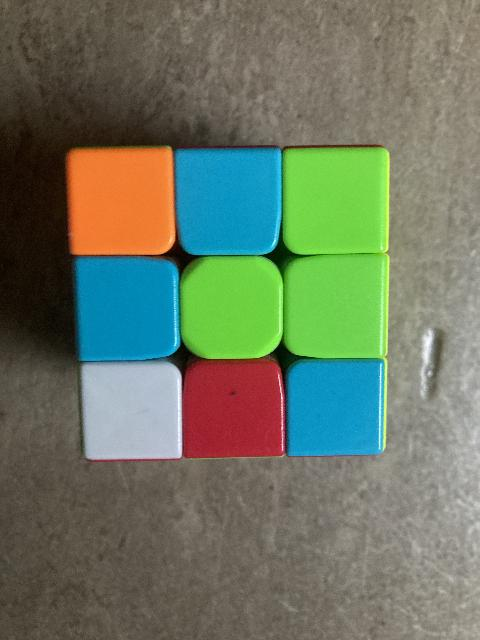Blue: (177, 151, 279, 251), (74, 262, 176, 362), (287, 364, 384, 454)
Green: (286, 150, 388, 252), (182, 260, 284, 358), (289, 259, 383, 355)
Orange: (66, 150, 172, 254)
Red: (181, 363, 285, 455)
White: (85, 366, 179, 458)
